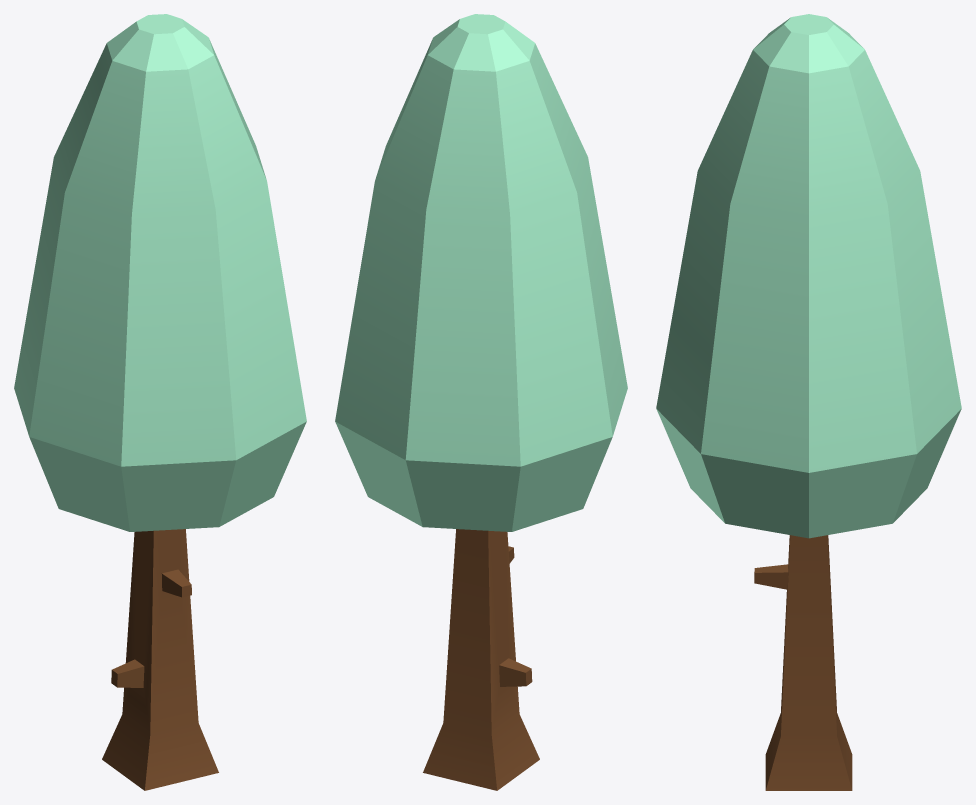
The model's file is Tree4.obj.
The picture shows the model from 3 angles, left to right: view 1: azimuth 30°, elevation 25°; view 2: azimuth 150°, elevation 25°; view 3: azimuth 270°, elevation 25°; orthographic projection.
Parts seen in each view (by area): view 1: Tree4:treeHighRound; view 2: Tree4:treeHighRound; view 3: Tree4:treeHighRound.
Part boxes in pixels (x1,y1,x2,y2): Tree4:treeHighRound: (14, 14, 306, 790); Tree4:treeHighRound: (335, 14, 627, 790); Tree4:treeHighRound: (656, 14, 961, 790).
Bounding box in the file's own units: 1.02 × 2.75 × 1.02.
